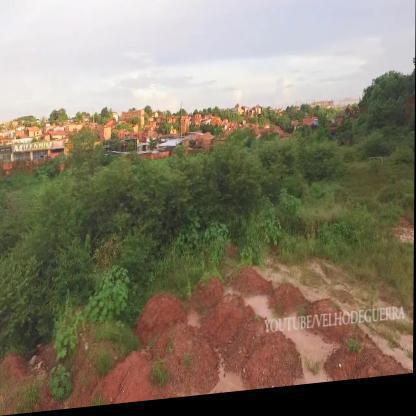agua: (251, 301, 275, 324), (218, 373, 242, 394)
